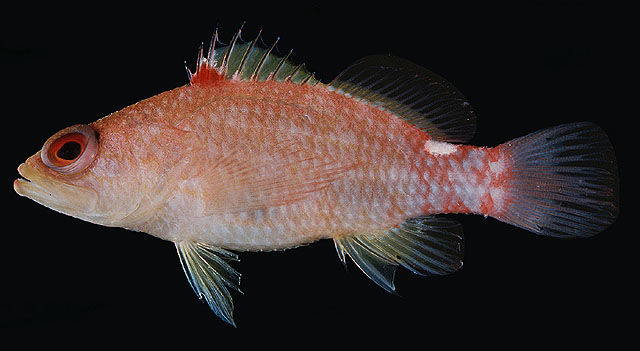fish: (13, 22, 616, 327)
